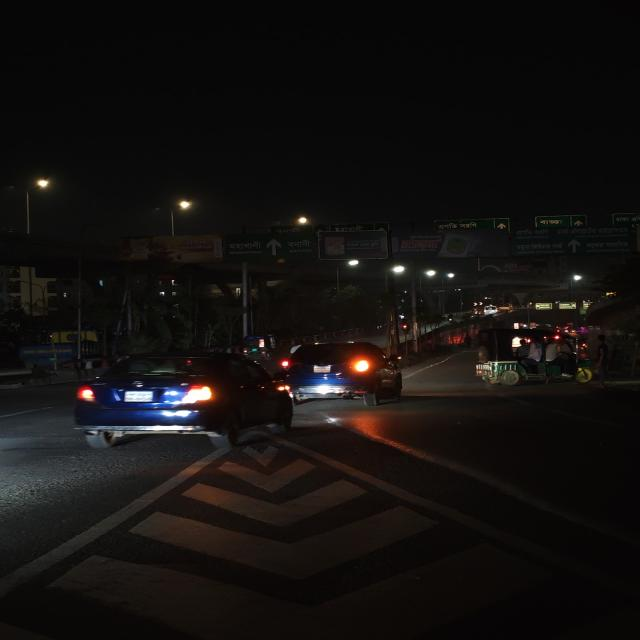car: (69, 351, 293, 449), (278, 338, 406, 406)
cng: (242, 334, 276, 356)
rickshaw: (470, 323, 594, 391)
